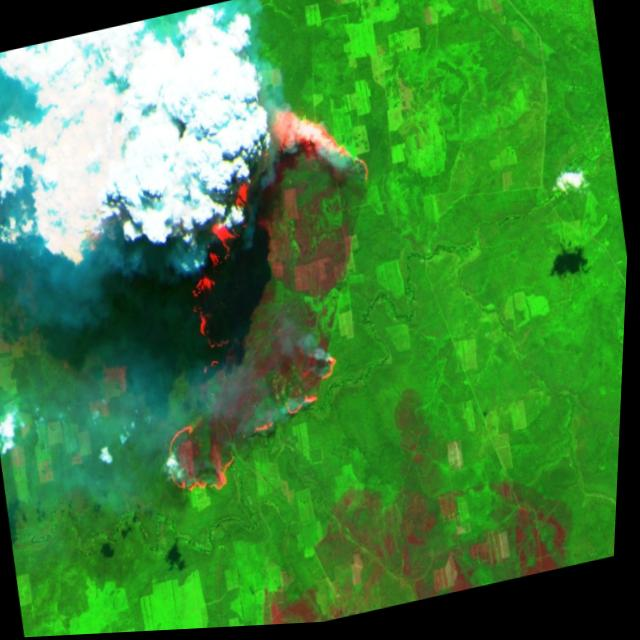fire: (107, 85, 431, 511)
